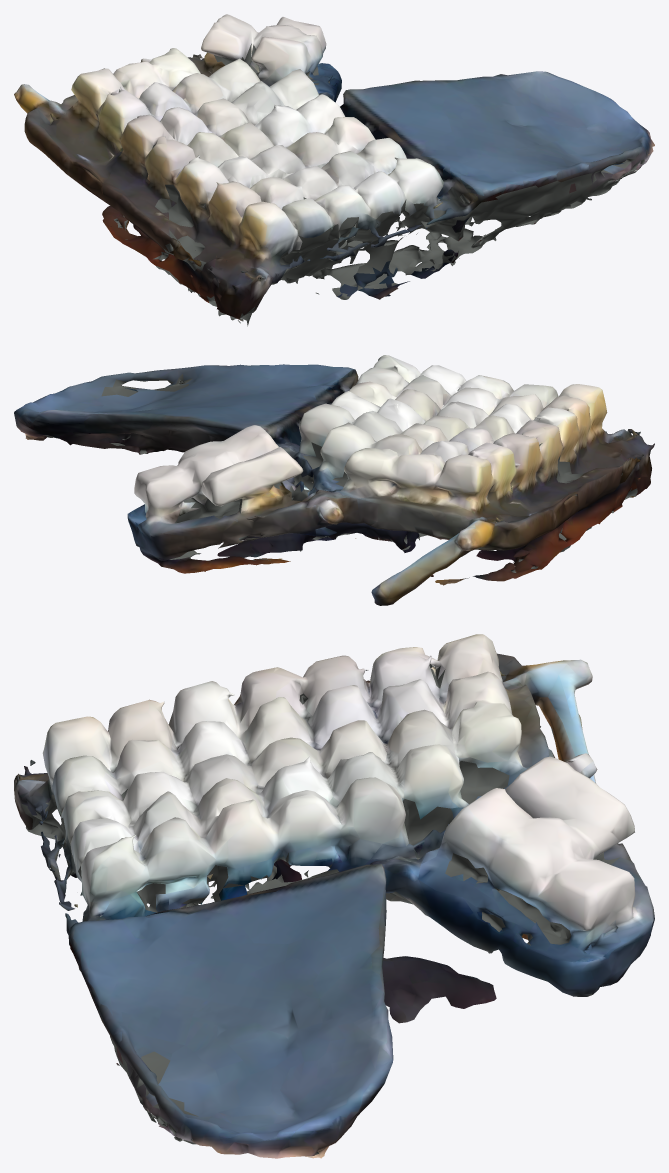
Rendered from scan.glb.
3 renders of one model, top to bottom at view 1: azimuth 30°, elevation 25°; view 2: azimuth 150°, elevation 25°; view 3: azimuth 270°, elevation 25°, orthographic. The views are drawn at different scales.
Parts seen in each view (by area): view 1: mesh_lowpoly; view 2: mesh_lowpoly; view 3: mesh_lowpoly.
Boxes of the visible parts, bbox=[...] form: mesh_lowpoly: bbox=[14, 14, 654, 326]; mesh_lowpoly: bbox=[14, 355, 654, 605]; mesh_lowpoly: bbox=[14, 634, 654, 1158].
Bounding box in the file's own units: 1.82 × 0.5579 × 1.28.
Materials: 5 (5 with a texture image).
